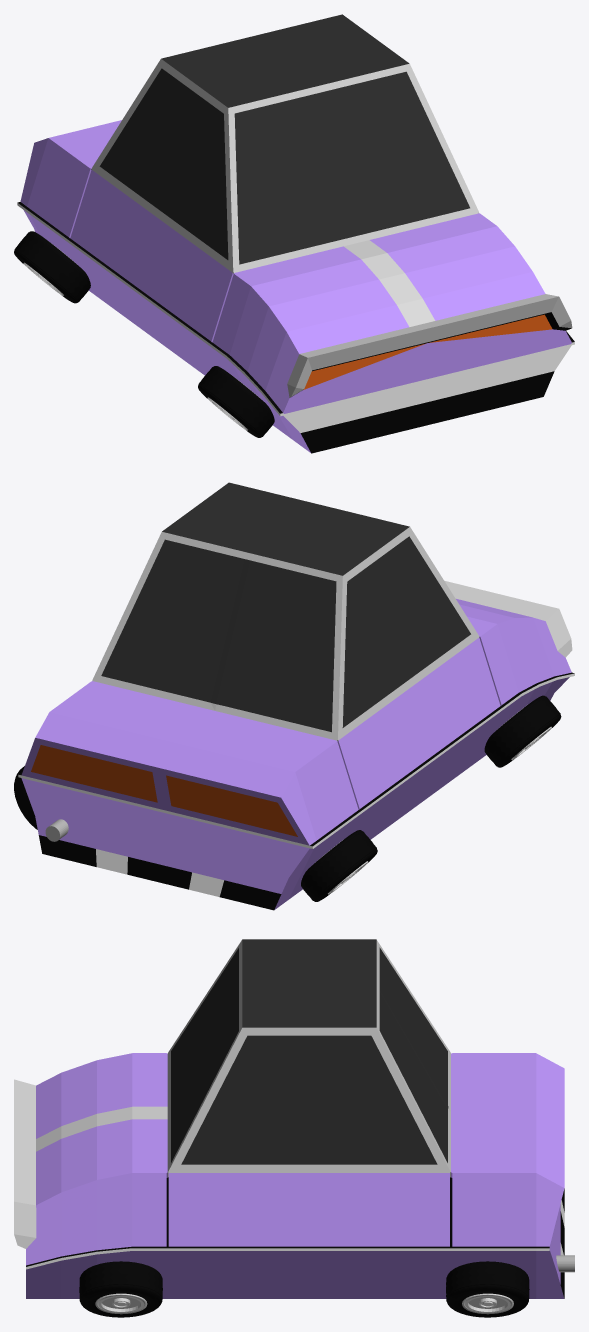
3 renders of one model, top to bottom at view 1: azimuth 30°, elevation 25°; view 2: azimuth 150°, elevation 25°; view 3: azimuth 270°, elevation 25°, orthographic.
Parts seen in each view (by area): view 1: Body50, WHEEL.003, WHEEL.002; view 2: Body50, WHEEL.002, WHEEL.003, WHEEL.001; view 3: Body50, WHEEL.004, WHEEL.001.
Part boxes in pixels (x1=…): Body50: x1=17, y1=14, x2=574, y2=453; WHEEL.003: x1=14, y1=231, x2=90, y2=303; WHEEL.002: x1=198, y1=366, x2=274, y2=437; Body50: x1=18, y1=482, x2=574, y2=910; WHEEL.002: x1=484, y1=695, x2=561, y2=767; WHEEL.003: x1=301, y1=830, x2=377, y2=901; WHEEL.001: x1=14, y1=766, x2=37, y2=829; Body50: x1=14, y1=939, x2=564, y2=1298; WHEEL.004: x1=79, y1=1261, x2=162, y2=1317; WHEEL.001: x1=446, y1=1261, x2=529, y2=1317.
Size of the model in its own units: 150 by 112 by 209.
